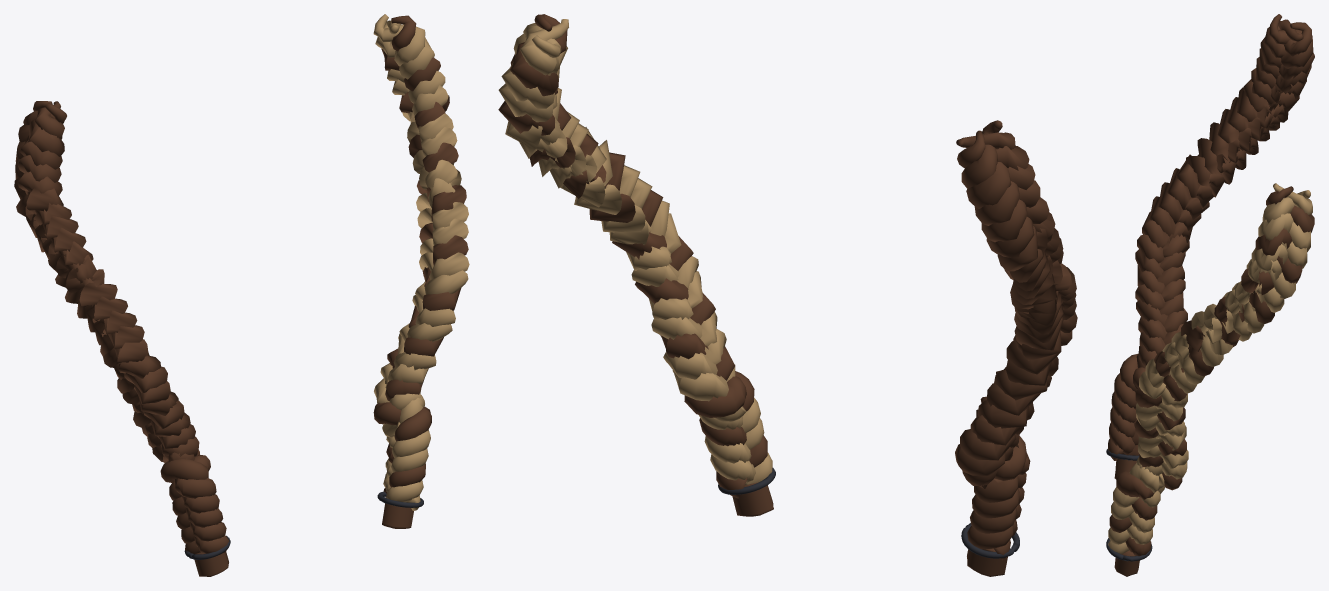
The model's file is Highlights-9c2a839a1ba4251-hair.glb.
3 renders of one model, left to right at view 1: azimuth 30°, elevation 25°; view 2: azimuth 150°, elevation 25°; view 3: azimuth 270°, elevation 25°, orthographic. The views are drawn at different scales.
Parts seen in each view (by area): view 1: 226 hairLengths / Hair / chestnut226, 226 hairLengths / Hair / ties226; view 2: 226 hairLengths / Hair / chestnut226, 226 hairLengths / Hair / ties226; view 3: 226 hairLengths / Hair / chestnut226, 226 hairLengths / Hair / ties226.
Part boxes in pixels (<box>): 226 hairLengths / Hair / chestnut226: <box>14,14,469,576</box>; 226 hairLengths / Hair / ties226: <box>184,491,423,559</box>; 226 hairLengths / Hair / chestnut226: <box>498,14,1077,576</box>; 226 hairLengths / Hair / ties226: <box>718,468,1019,558</box>; 226 hairLengths / Hair / chestnut226: <box>1108,14,1314,576</box>; 226 hairLengths / Hair / ties226: <box>1106,449,1152,561</box>.
Bounding box in the file's own units: 1.09 × 1.06 × 0.4676.
